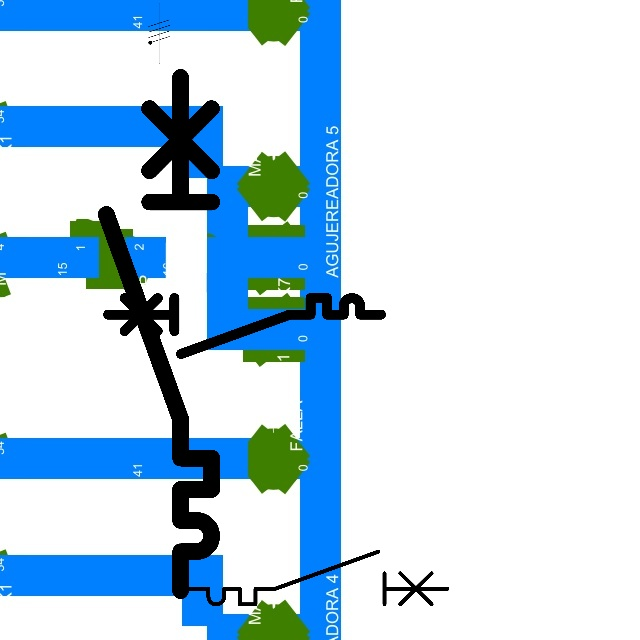interruptor_termomagnetico: (93, 64, 225, 604), (101, 291, 388, 361), (182, 545, 454, 611)
